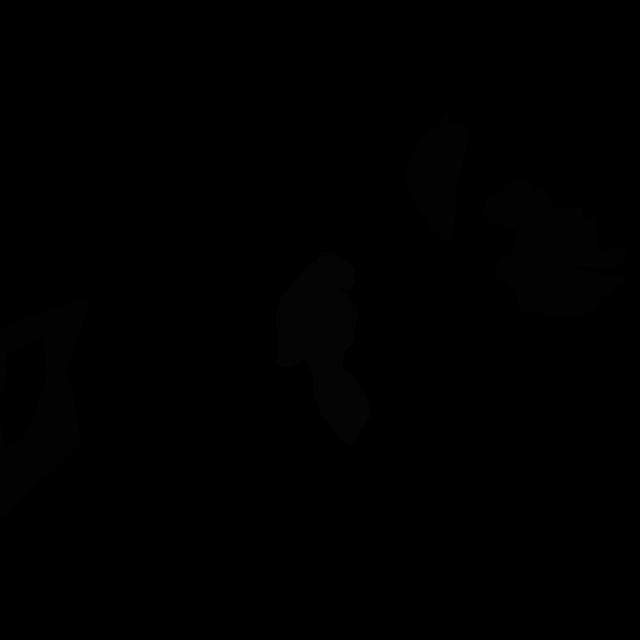cardboard: (481, 177, 626, 318), (0, 298, 88, 523), (406, 114, 470, 243), (551, 207, 598, 250)
soft_plastic: (276, 252, 370, 445)
